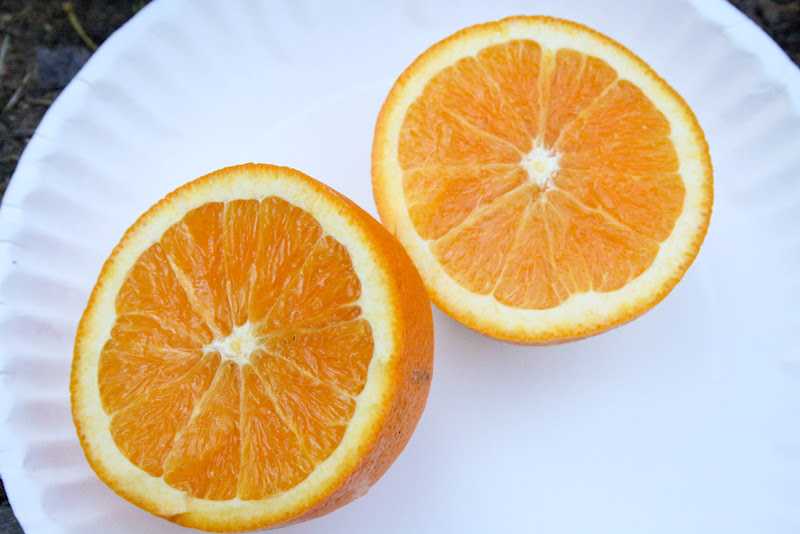orange: (66, 161, 429, 534), (372, 15, 714, 344)
